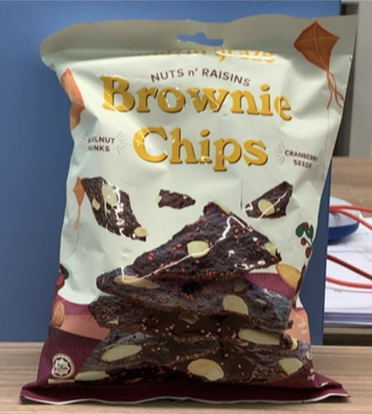crackers_100g-199g: (55, 81, 307, 384)
